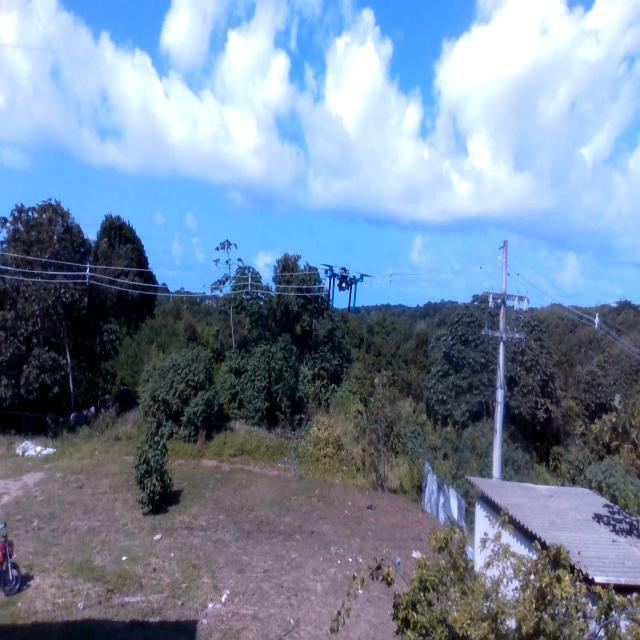-uav-: (315, 246, 375, 324)
